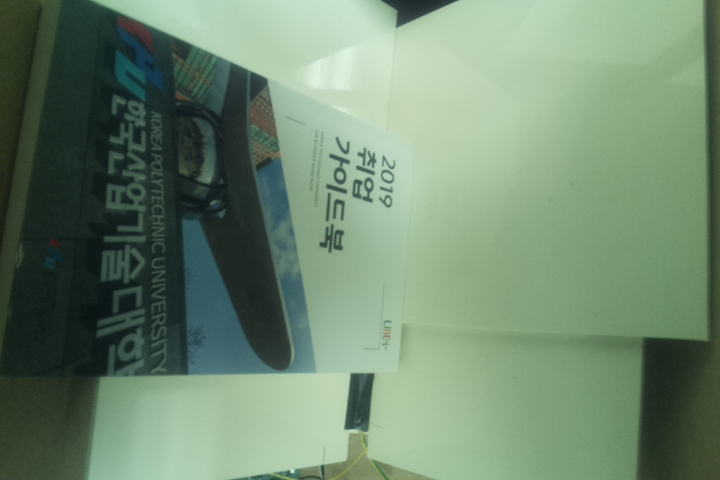book: (1, 1, 415, 379)
